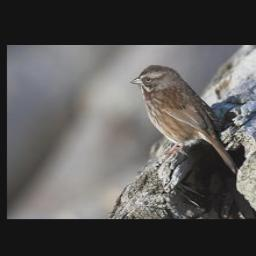Sparrow: (129, 64, 237, 175)
